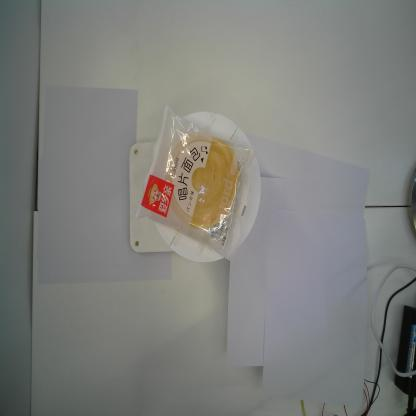Dessert: (136, 103, 256, 263)
